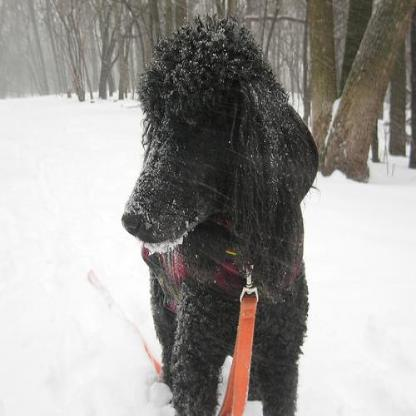standard_poodle: (120, 11, 319, 414)
